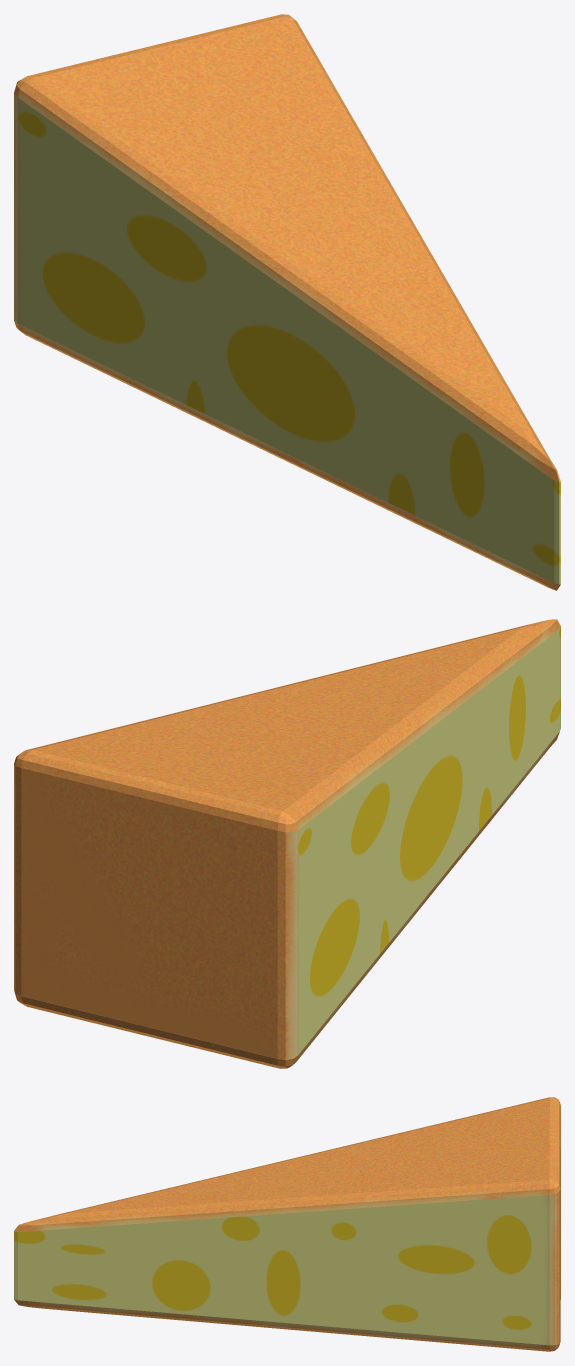
File: Cheese_Buff.fbx
The picture shows the model from 3 angles, top to bottom: view 1: azimuth 30°, elevation 25°; view 2: azimuth 150°, elevation 25°; view 3: azimuth 270°, elevation 25°; orthographic projection. The views are drawn at different scales.
Parts seen in each view (by area): view 1: Circle; view 2: Circle; view 3: Circle.
Part boxes in pixels (x1,y1,x2,y2): Circle: [14, 14, 560, 590]; Circle: [14, 619, 560, 1068]; Circle: [14, 1097, 560, 1351].
Size of the model in its own units: 38.24 by 33.41 by 96.86.
